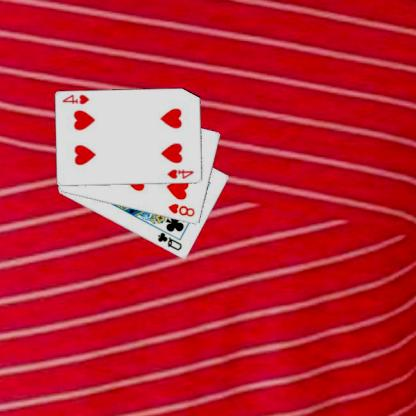4H: (167, 166, 197, 180), (62, 92, 92, 106)
8H: (167, 201, 198, 218)
QC: (156, 230, 186, 252)
